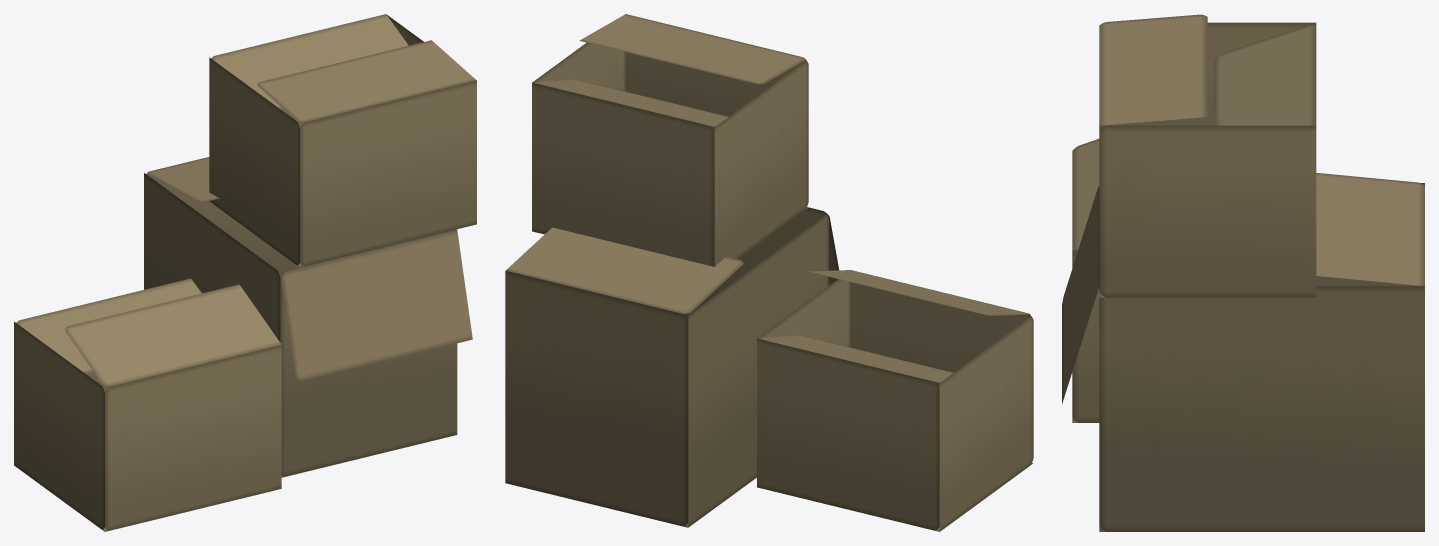
File: cardboardboxes3.obj
The picture shows the model from 3 angles, left to right: view 1: azimuth 30°, elevation 25°; view 2: azimuth 150°, elevation 25°; view 3: azimuth 270°, elevation 25°; orthographic projection. The views are drawn at different scales.
Visible parts, largest first — view 1: baseModel19, baseModel10, baseModel5, baseModel3, baseModel8, baseModel16, baseModel12, baseModel1, baseModel17, baseModel15, baseModel13, baseModel0 (+1 smaller); view 2: baseModel0, baseModel7, baseModel14, baseModel1, baseModel8, baseModel16, baseModel6, baseModel10, baseModel17, baseModel19, baseModel9, baseModel18 (+4 smaller); view 3: baseModel2, baseModel18, baseModel6, baseModel17, baseModel15, baseModel5, baseModel16, baseModel9, baseModel12, baseModel1.
Part boxes in pixels (bbox=[...]): baseModel19: bbox=[300, 80, 476, 266]; baseModel10: bbox=[105, 345, 281, 530]; baseModel5: bbox=[281, 229, 472, 381]; baseModel3: bbox=[280, 272, 457, 476]; baseModel8: bbox=[14, 321, 104, 529]; baseModel16: bbox=[209, 57, 299, 265]; baseModel12: bbox=[65, 284, 281, 386]; baseModel1: bbox=[144, 173, 280, 341]; baseModel17: bbox=[257, 40, 476, 122]; baseModel15: bbox=[212, 14, 408, 109]; baseModel13: bbox=[17, 278, 201, 373]; baseModel0: bbox=[146, 174, 299, 276]; baseModel0: bbox=[505, 270, 688, 526]; baseModel7: bbox=[757, 338, 939, 530]; baseModel14: bbox=[532, 82, 714, 266]; baseModel1: bbox=[688, 214, 828, 527]; baseModel8: bbox=[939, 316, 1033, 531]; baseModel16: bbox=[714, 61, 808, 266]; baseModel6: bbox=[506, 227, 743, 313]; baseModel10: bbox=[850, 282, 1031, 387]; baseModel17: bbox=[579, 14, 805, 84]; baseModel19: bbox=[625, 52, 806, 131]; baseModel9: bbox=[757, 279, 850, 347]; baseModel18: bbox=[532, 42, 625, 91]; baseModel2: bbox=[1099, 286, 1424, 531]; baseModel18: bbox=[1099, 125, 1316, 297]; baseModel6: bbox=[1316, 173, 1424, 286]; baseModel17: bbox=[1099, 14, 1207, 125]; baseModel15: bbox=[1214, 24, 1316, 125]; baseModel5: bbox=[1062, 186, 1099, 403]; baseModel16: bbox=[1099, 22, 1316, 131]; baseModel9: bbox=[1072, 252, 1099, 422]; baseModel12: bbox=[1072, 139, 1099, 250]; baseModel1: bbox=[1316, 183, 1424, 286].
Bounding box in the file's own units: 19.5 × 17.35 × 13.38.
